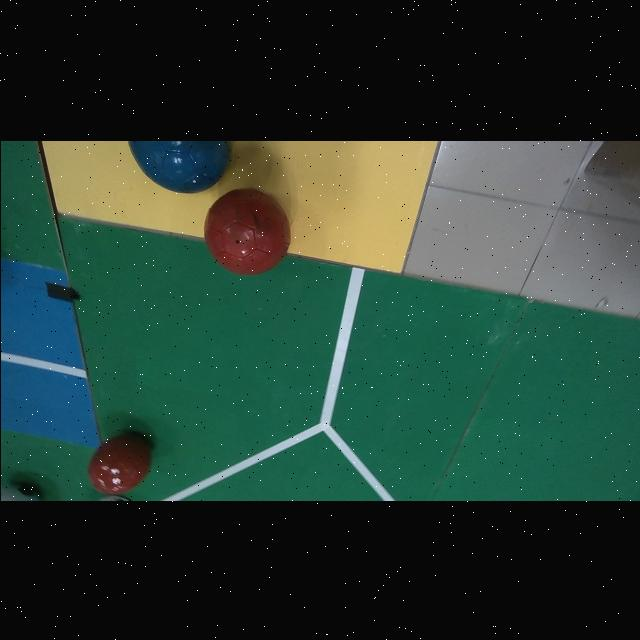B: (127, 140, 229, 192)
R: (204, 188, 290, 274), (87, 435, 150, 494)
